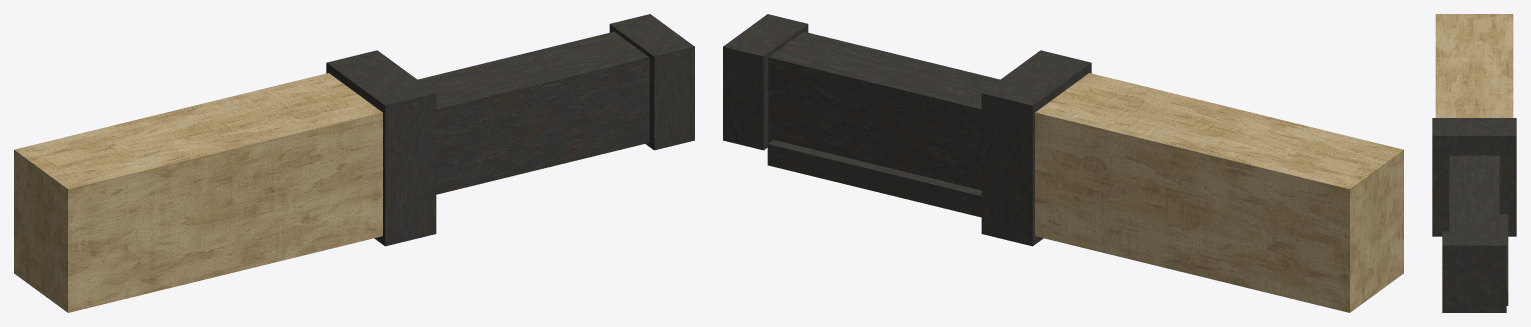
The model's file is ITM_KNIFE_001.obj.
3 views of the same model, side by side, from view 1: azimuth 30°, elevation 25°; view 2: azimuth 150°, elevation 25°; view 3: azimuth 270°, elevation 25° (orthographic). The views are drawn at different scales.
Parts seen in each view (by area): view 1: grip_core, blade_core, finger_guard, blunt_nose; view 2: grip_core, blade_core, finger_guard, blunt_nose, cutting_edge; view 3: grip_core, finger_guard, blunt_nose, blade_core, cutting_edge.
Part boxes in pixels (<box>): grip_core: <box>14,73,382,312</box>; blade_core: <box>418,31,649,194</box>; finger_guard: <box>326,50,436,246</box>; blunt_nose: <box>609,14,694,150</box>; grip_core: <box>1035,73,1403,312</box>; blade_core: <box>768,31,999,190</box>; finger_guard: <box>981,50,1091,246</box>; blunt_nose: <box>723,14,808,150</box>; cutting_edge: <box>767,139,981,217</box>; grip_core: <box>1435,14,1513,117</box>; finger_guard: <box>1432,118,1516,236</box>; blunt_nose: <box>1442,231,1506,312</box>; blade_core: <box>1449,155,1499,231</box>; cutting_edge: <box>1499,214,1508,305</box>.
Bounding box in the file's own units: 0.31 × 0.066 × 0.05.
3 materials, 3 textured.
